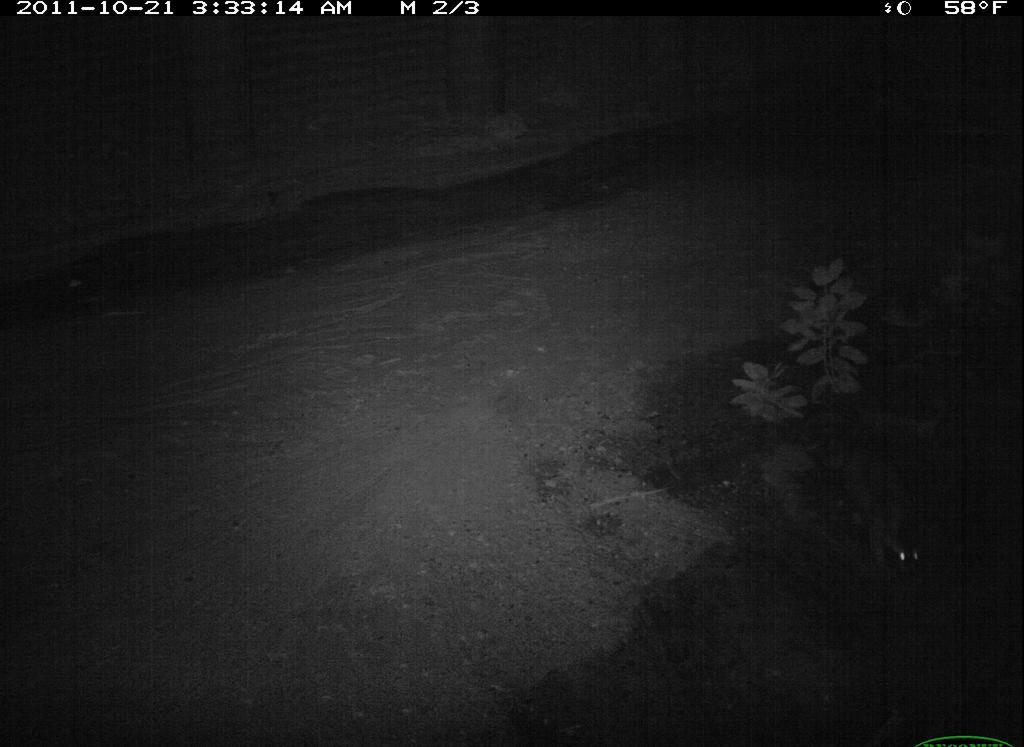raccoon: (831, 441, 948, 592)
